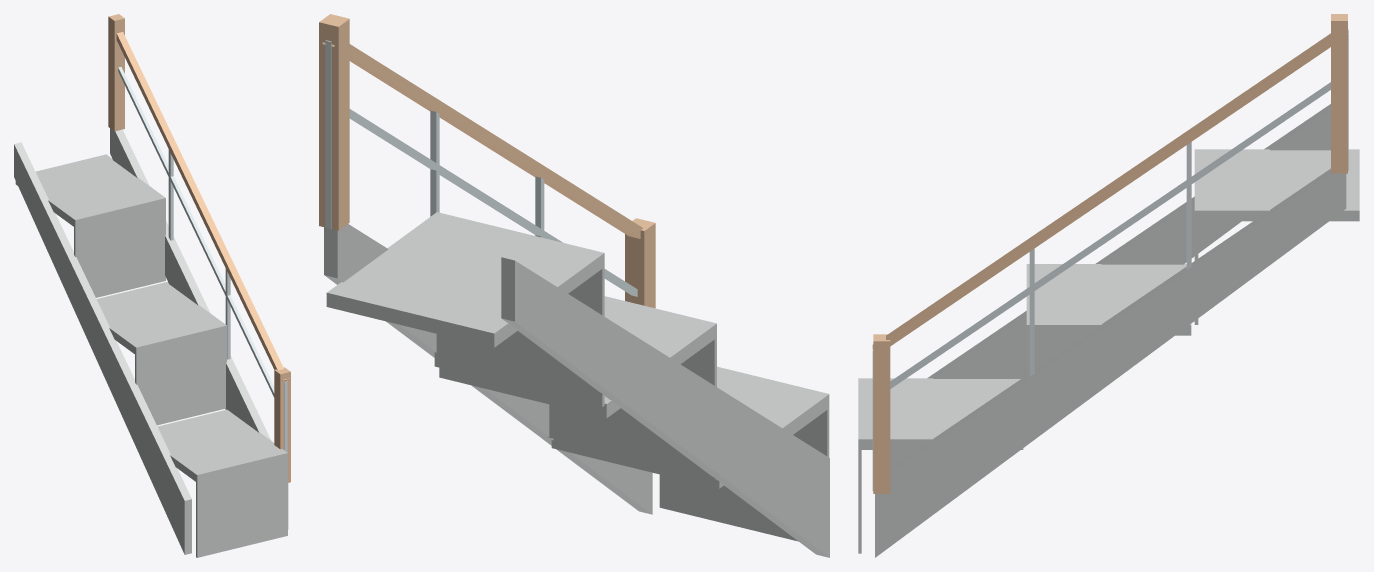
Rendered from stairWhitePainted.glb.
3 renders of one model, left to right at view 1: azimuth 30°, elevation 25°; view 2: azimuth 150°, elevation 25°; view 3: azimuth 270°, elevation 25°, orthographic. The views are drawn at different scales.
Parts seen in each view (by area): view 1: stairWhitePainted; view 2: stairWhitePainted; view 3: stairWhitePainted.
Part boxes in pixels (left/top/right/bottom): stairWhitePainted: left=14, top=14, right=290, bottom=557; stairWhitePainted: left=319, top=14, right=829, bottom=557; stairWhitePainted: left=858, top=14, right=1359, bottom=557.
Bounding box in the file's own units: 0.5 × 1.76 × 1.49.
